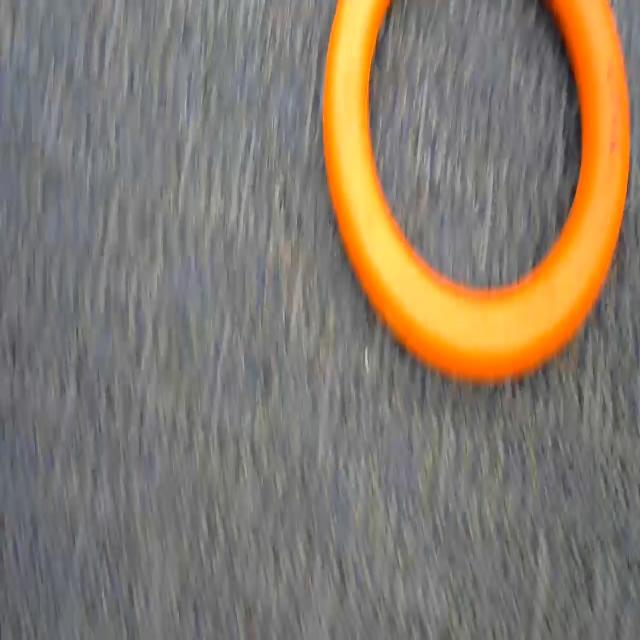note: (322, 0, 638, 407)
